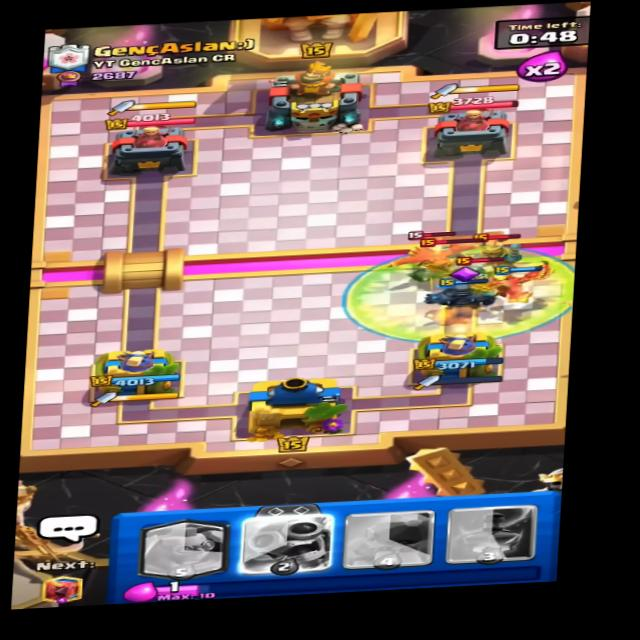phoenix: (381, 229, 487, 273)
prince: (464, 229, 535, 280)
